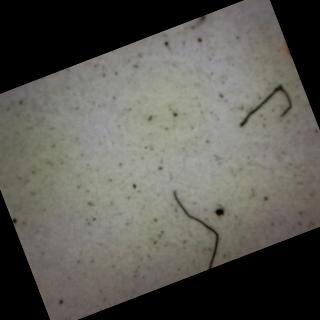Microplastic: (215, 72, 312, 147), (164, 172, 234, 274), (176, 6, 232, 44)
